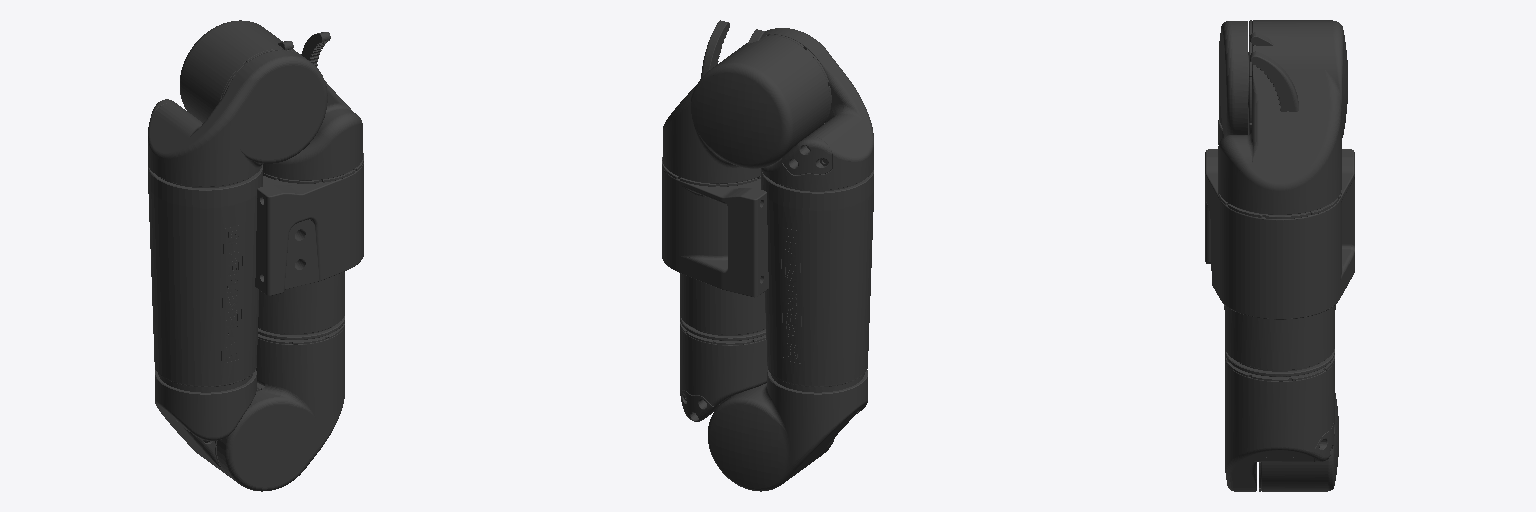
robot.urdf — bravo_5_example:
<?xml version="1.0" ?>
<!-- =================================================================================== -->
<!-- |    This document was autogenerated by xacro from bravo_5_example.urdf.xacro     | -->
<!-- |    EDITING THIS FILE BY HAND IS NOT RECOMMENDED                                 | -->
<!-- =================================================================================== -->
<robot name="bravo_5_example">
  <link name="base_link"/>
  <joint name="bravo_joint" type="fixed">
    <origin rpy="0 0 0" xyz="0 0 0"/>
    <parent link="base_link"/>
    <child link="bravo_base_link"/>
    <origin rpy="0 0 0" xyz="0 0 0"/>
  </joint>
  <material name="bravo_black">
    <color rgba="0.3 0.3 0.3 1"/>
  </material>
  <link name="bravo_base_link">
    <visual>
      <geometry>
        <mesh filename="package://reach_bravo_description_mk2/meshes/1019 A.stl"/>
      </geometry>
      <material name="bravo_black"/>
    </visual>
    <collision>
      <geometry>
        <box size="0.0625 0.1112 0.088"/>
      </geometry>
      <origin rpy="0 0 0" xyz="0.03625 00 0.044"/>
    </collision>
    <collision>
      <geometry>
        <box size="0.050 0.080 0.060"/>
      </geometry>
      <origin rpy="0 0 0" xyz="0.025 -0.04556 0.03"/>
    </collision>
    <collision>
      <geometry>
        <cylinder length="0.0851" radius="0.046"/>
      </geometry>
      <origin rpy="0 0 0" xyz="0.0675 0 0.04255"/>
    </collision>
  </link>
  <joint name="bravo_axis_e" type="continuous">
    <parent link="bravo_base_link"/>
    <origin rpy="0 0 3.14159" xyz="0.0665 0 0.08"/>
    <axis xyz="0 0 -1"/>
    <child link="bravo_1019_end_link"/>
    <!-- <limit effort="0" velocity="0" lower="0.0" upper="6.3" /> -->
  </joint>
  <link name="bravo_1019_end_link">
    <visual>
      <geometry>
        <mesh filename="package://reach_bravo_description_mk2/meshes/1019 B.stl"/>
      </geometry>
      <origin rpy="0 0 3.14159" xyz="0 0 0"/>
      <material name="bravo_black"/>
    </visual>
  </link>
  <joint name="bravo_d_base_joint" type="fixed">
    <parent link="bravo_1019_end_link"/>
    <origin rpy="0 0 0" xyz="0 0 0.0058"/>
    <child link="bravo_1013_base_link"/>
  </joint>
  <link name="bravo_1013_base_link">
    <visual>
      <geometry>
        <mesh filename="package://reach_bravo_description_mk2/meshes/1013 A.stl"/>
      </geometry>
      <origin rpy="0 0 3.14159" xyz="0.0 00 0.0"/>
      <material name="bravo_black"/>
    </visual>
    <collision>
      <geometry>
        <cylinder length="0.0667" radius="0.046"/>
      </geometry>
      <origin rpy="0 0 0" xyz="0.0 0.0 0.03335"/>
    </collision>
    <collision>
      <geometry>
        <cylinder length="0.0738" radius="0.046"/>
      </geometry>
      <origin rpy="1.5707 0 0 " xyz="0.046 0.0149 0.0667"/>
    </collision>
  </link>
  <joint name="bravo_axis_d" type="revolute">
    <parent link="bravo_1013_base_link"/>
    <origin rpy="0 0 0" xyz="0.046 0 0.0667"/>
    <axis xyz="0 -1 0"/>
    <child link="bravo_1013_joint_link"/>
    <limit effort="0" lower="0.0" upper="3.2" velocity="0"/>
  </joint>
  <link name="bravo_1013_joint_link">
    <visual>
      <geometry>
        <mesh filename="package://reach_bravo_description_mk2/meshes/1013 B.stl"/>
      </geometry>
      <material name="bravo_black"/>
      <origin rpy="0 0 3.14159" xyz="0.0 00 0.0"/>
    </visual>
    <collision>
      <geometry>
        <cylinder length="0.0228" radius="0.046"/>
      </geometry>
      <origin rpy="1.5707 0 0 " xyz="0 -0.0334 0"/>
    </collision>
    <collision>
      <geometry>
        <cylinder length="0.05094" radius="0.046"/>
      </geometry>
      <origin rpy="0 0 0" xyz="0.046 0 -0.02547"/>
    </collision>
  </link>
  <joint name="bravo_1013_end_joint" type="fixed">
    <parent link="bravo_1013_joint_link"/>
    <origin rpy="3.14159 0 3.14159" xyz="0.046 0 -0.05334"/>
    <child link="bravo_1013_end_link"/>
  </joint>
  <link name="bravo_1013_end_link"/>
  <joint name="bravo_c_base_joint" type="fixed">
    <parent link="bravo_1013_end_link"/>
    <origin rpy="0 0 0" xyz="0 0 0.182"/>
    <child link="bravo_1023_0_base_link"/>
  </joint>
  <link name="bravo_1023_0_base_link">
    <visual>
      <geometry>
        <mesh filename="package://reach_bravo_description_mk2/meshes/RS2-1023-A.stl"/>
      </geometry>
      <material name="bravo_black"/>
    </visual>
    <collision>
      <geometry>
        <cylinder length="0.059" radius="0.0408"/>
      </geometry>
      <origin rpy="0 0 0" xyz="0 00 0.0295"/>
    </collision>
    <collision>
      <geometry>
        <cylinder length="0.0599" radius="0.0408"/>
      </geometry>
      <origin rpy="1.5707 0 0" xyz="0.0408 -0.01435 0.059"/>
    </collision>
  </link>
  <joint name="bravo_axis_c" type="revolute">
    <parent link="bravo_1023_0_base_link"/>
    <origin rpy="0 0 0" xyz="0.0408 0 0.059"/>
    <axis xyz="0 -1 0"/>
    <child link="bravo_1023_0_joint_link"/>
    <limit effort="0" lower="0.0" upper="3.2" velocity="0"/>
  </joint>
  <link name="bravo_1023_0_joint_link">
    <visual>
      <geometry>
        <mesh filename="package://reach_bravo_description_mk2/meshes/RS2-1023-B.stl"/>
      </geometry>
      <material name="bravo_black"/>
    </visual>
    <collision>
      <geometry>
        <cylinder length="0.02335" radius="0.0408"/>
      </geometry>
      <origin rpy="1.5707 0 0" xyz="0 0.027275 0 "/>
    </collision>
    <collision>
      <geometry>
        <cylinder length="0.0851" radius="0.0408"/>
      </geometry>
      <origin rpy="0 0 0" xyz="0.0408 0 -0.0473"/>
    </collision>
  </link>
  <joint name="bravo_1023_0_end_joint" type="fixed">
    <parent link="bravo_1023_0_joint_link"/>
    <origin rpy="3.14159 0 0" xyz="0.0408 0 -0.08705"/>
    <child link="bravo_1023_0_end_link"/>
  </joint>
  <link name="bravo_1023_0_end_link"/>
  <joint name="bravo_b_base_joint" type="fixed">
    <parent link="bravo_1023_0_end_link"/>
    <origin rpy="0 0 0" xyz="0 0 0"/>
    <child link="bravo_1023_1_base_link"/>
  </joint>
  <link name="bravo_1023_1_base_link">
        </link>
  <joint name="bravo_axis_b" type="continuous">
    <parent link="bravo_1023_1_base_link"/>
    <origin rpy="0 0 3.14159" xyz="0 0 0"/>
    <axis xyz="0 0 -1"/>
    <child link="bravo_1023_1_joint_link"/>
    <!--            <limit effort="0" velocity="0" lower="0.0" upper="0.0" />-->
  </joint>
  <link name="bravo_1023_1_joint_link">
    <visual>
      <geometry>
        <mesh filename="package://reach_bravo_description_mk2/meshes/RS2-1023-C.stl"/>
      </geometry>
      <material name="bravo_black"/>
    </visual>
    <collision>
      <geometry>
        <cylinder length="0.003" radius="0.0408"/>
      </geometry>
      <origin rpy="0 0 0" xyz="0 0 0.0"/>
    </collision>
  </link>
  <joint name="bravo_1023_1_end_joint" type="fixed">
    <parent link="bravo_1023_1_joint_link"/>
    <origin rpy="0 0 0" xyz="0 0 0.0054"/>
    <child link="bravo_1023_1_end_link"/>
  </joint>
  <link name="bravo_1023_1_end_link"/>
  <joint name="bravo_a_base_joint" type="fixed">
    <parent link="bravo_1023_1_end_link"/>
    <origin rpy="0 0 0" xyz="0 0 0"/>
    <child link="bravo_1038_base_link"/>
  </joint>
  <link name="bravo_1038_base_link">
    <visual>
      <geometry>
        <mesh filename="package://reach_bravo_description_mk2/meshes/1038.stl"/>
      </geometry>
      <material name="bravo_black"/>
    </visual>
    <collision>
      <geometry>
        <cylinder length="0.12535" radius="0.0408"/>
      </geometry>
      <origin rpy="0 0 0" xyz="0 0 0.06"/>
    </collision>
  </link>
  <joint name="bravo_1038_end_joint" type="fixed">
    <parent link="bravo_1038_base_link"/>
    <origin rpy="0 -1.5707 0" xyz="0 0 0.12535"/>
    <child link="bravo_1038_end_link"/>
  </joint>
  <link name="bravo_1038_end_link"/>
  <joint name="bravo_jaws_joint" type="fixed">
    <origin rpy="0 0 0" xyz=" 0 0 0.0"/>
    <parent link="bravo_1038_end_link"/>
    <child link="bravo_jaws_base_link"/>
  </joint>
  <link name="bravo_jaws_base_link">
    <!--        <visual>-->
    <!--            <geometry>-->
    <!--                <mesh filename="package://reach_bravo_description/meshes/end_effectors/RS2-257.stl"/>-->
    <!--            </geometry>-->
    <!--            <material name="bravo_jaws_black"/>-->
    <!--            </visual>-->
  </link>
  <link name="bravo_push_rod"/>
  <joint name="bravo_axis_a" type="prismatic">
    <origin rpy="0 0 0" xyz="0 0 0.009"/>
    <parent link="bravo_jaws_base_link"/>
    <child link="bravo_push_rod"/>
    <axis xyz="0 0 1"/>
    <limit effort="10" lower="0" upper="0.01" velocity="10"/>
  </joint>
  <link name="bravo_1030_base_link">
    <visual>
      <geometry>
        <mesh filename="package://reach_bravo_description_mk2/meshes/1030.stl"/>
      </geometry>
      <material name="bravo_black"/>
    </visual>
    <collision>
      <geometry>
        <cylinder length="0.03033333" radius="0.046"/>
      </geometry>
      <origin rpy="0 0 0" xyz="0 0 0.01516666"/>
    </collision>
    <collision>
      <geometry>
        <cylinder length="0.03033333" radius="0.045"/>
      </geometry>
      <origin rpy="0 0 0" xyz="0 0 0.0455"/>
    </collision>
    <collision>
      <geometry>
        <cylinder length="0.03033333" radius="0.044"/>
      </geometry>
      <origin rpy="0 0 0" xyz="0 0 0.075833333"/>
    </collision>
    <collision>
      <geometry>
        <cylinder length="0.03033333" radius="0.043"/>
      </geometry>
      <origin rpy="0 0 0" xyz="0 0 0.1061666666"/>
    </collision>
    <collision>
      <geometry>
        <cylinder length="0.03033333" radius="0.042"/>
      </geometry>
      <origin rpy="0 0 0" xyz="0 0 0.1365"/>
    </collision>
    <collision>
      <geometry>
        <cylinder length="0.03033333" radius="0.041"/>
      </geometry>
      <origin rpy="0 0 0" xyz="0 0 0.1668333"/>
    </collision>
  </link>
  <joint name="bravo_1030_base_joint" type="fixed">
    <parent link="bravo_1013_end_link"/>
    <child link="bravo_1030_base_link"/>
    <origin rpy="0 0 0" xyz="0 0 0"/>
  </joint>
  <material name="bravo_finger_jaws_black">
    <color rgba="0.3 0.3 0.3 1"/>
  </material>
  <joint name="bravo_finger_jaws_joint" type="fixed">
    <origin rpy="0 0 0" xyz="0 0 0"/>
    <parent link="bravo_jaws_base_link"/>
    <child link="bravo_finger_jaws_base_link"/>
    <origin rpy="0 0 0" xyz="0 0 0"/>
  </joint>
  <link name="bravo_finger_jaws_base_link">
    <visual>
      <geometry>
        <mesh filename="package://reach_bravo_description_mk2/meshes/RS2-257.stl"/>
      </geometry>
      <material name="bravo_finger_jaws_black"/>
    </visual>
    <collision>
      <geometry>
        <cylinder length="0.037" radius="0.0355"/>
      </geometry>
      <origin rpy="0 1.5707 0" xyz="0.0123 0 0"/>
    </collision>
  </link>
  <link name="bravo_finger_jaws_rs2_300_link">
    <visual>
      <geometry>
        <mesh filename="package://reach_bravo_description_mk2/meshes/RS2-300.stl"/>
      </geometry>
      <material name="bravo_finger_jaws_black"/>
    </visual>
    <collision>
      <geometry>
        <box size="0.124 0.035 0.042"/>
      </geometry>
      <origin rpy="0 0 2.78554548618295" xyz="0.0595 -0.0267 0"/>
    </collision>
  </link>
  <joint name="bravo_finger_jaws_rs2_300_joint" type="revolute">
    <origin rpy="0 0 0" xyz="0.0241 0.0268 0"/>
    <axis xyz="0 0 1"/>
    <parent link="bravo_finger_jaws_base_link"/>
    <child link="bravo_finger_jaws_rs2_300_link"/>
    <limit effort="10" lower="0" upper="1.0" velocity="10"/>
    <mimic joint="bravo_axis_a" multiplier="54" offset="0"/>
  </joint>
  <link name="bravo_finger_jaws_rs2_301_link">
    <visual>
      <geometry>
        <mesh filename="package://reach_bravo_description_mk2/meshes/RS2-301.stl"/>
      </geometry>
      <material name="bravo_finger_jaws_black"/>
    </visual>
    <collision>
      <geometry>
        <box size="0.124 0.035 0.042"/>
      </geometry>
      <origin rpy="0 0 -2.78554548618295" xyz="0.0595 0.0267 0"/>
    </collision>
  </link>
  <joint name="bravo_finger_jaws_rs2_301_joint" type="revolute">
    <origin rpy="0 0 0" xyz="0.0241 -0.0268 0"/>
    <axis xyz="0 0 -1"/>
    <parent link="bravo_finger_jaws_base_link"/>
    <child link="bravo_finger_jaws_rs2_301_link"/>
    <limit effort="10" lower="0" upper="1.0" velocity="10"/>
    <mimic joint="bravo_finger_jaws_rs2_300_joint" multiplier="1" offset="0"/>
  </joint>
</robot>

--- Facts derived from the render (not from the file) ---
The picture shows the robot from 3 angles, left to right: view 1: azimuth 30°, elevation 25°; view 2: azimuth 150°, elevation 25°; view 3: azimuth 270°, elevation 25°; orthographic projection.
Robot: bravo_5_example — 20 links, 19 joints (4 revolute, 2 continuous, 1 prismatic, 12 fixed); root link base_link; default pose: every joint at zero.
Links seen in each view (by area): view 1: bravo_1030_base_link, bravo_1013_joint_link, bravo_1023_0_joint_link, bravo_base_link, bravo_1013_base_link, bravo_1023_0_base_link, bravo_1038_base_link, bravo_finger_jaws_rs2_301_link, bravo_1023_1_joint_link; view 2: bravo_1030_base_link, bravo_1013_base_link, bravo_1023_0_base_link, bravo_base_link, bravo_1013_joint_link, bravo_1023_0_joint_link, bravo_1038_base_link, bravo_finger_jaws_rs2_301_link; view 3: bravo_1013_base_link, bravo_base_link, bravo_1023_0_joint_link, bravo_1038_base_link, bravo_1013_joint_link, bravo_1023_0_base_link, bravo_finger_jaws_rs2_301_link, bravo_1023_1_joint_link.
Link boxes in pixels (box(x1,y1,x2,y2)): bravo_1030_base_link: box(148, 165, 262, 392); bravo_1013_joint_link: box(148, 50, 327, 187); bravo_1023_0_joint_link: box(217, 322, 344, 491); bravo_base_link: box(255, 153, 363, 295); bravo_1013_base_link: box(180, 20, 362, 180); bravo_1023_0_base_link: box(155, 369, 264, 475); bravo_1038_base_link: box(258, 272, 344, 333); bravo_finger_jaws_rs2_301_link: box(278, 32, 330, 66); bravo_1023_1_joint_link: box(258, 316, 344, 339); bravo_1030_base_link: box(761, 170, 873, 392); bravo_1013_base_link: box(663, 34, 831, 183); bravo_1023_0_base_link: box(708, 370, 867, 491); bravo_base_link: box(662, 157, 768, 297); bravo_1013_joint_link: box(761, 28, 873, 191); bravo_1023_0_joint_link: box(680, 322, 834, 458); bravo_1038_base_link: box(680, 273, 765, 334); bravo_finger_jaws_rs2_301_link: box(701, 20, 766, 77); bravo_1013_base_link: box(1218, 20, 1347, 214); bravo_base_link: box(1205, 149, 1354, 319); bravo_1023_0_joint_link: box(1225, 355, 1334, 491); bravo_1038_base_link: box(1225, 306, 1334, 369); bravo_1013_joint_link: box(1219, 21, 1248, 136); bravo_1023_0_base_link: box(1259, 393, 1338, 491); bravo_finger_jaws_rs2_301_link: box(1250, 32, 1298, 111); bravo_1023_1_joint_link: box(1225, 349, 1334, 376).
Size in the robot's own frame: 0.185 by 0.1112 by 0.3833 metres.
10 mesh visuals loaded from 12 distinct referenced files (10 binary STL); not drawn: 2 (reference not matched to a file when rendering).